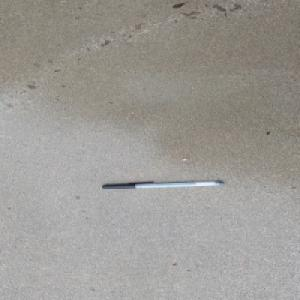Pen: (100, 180, 225, 190)
